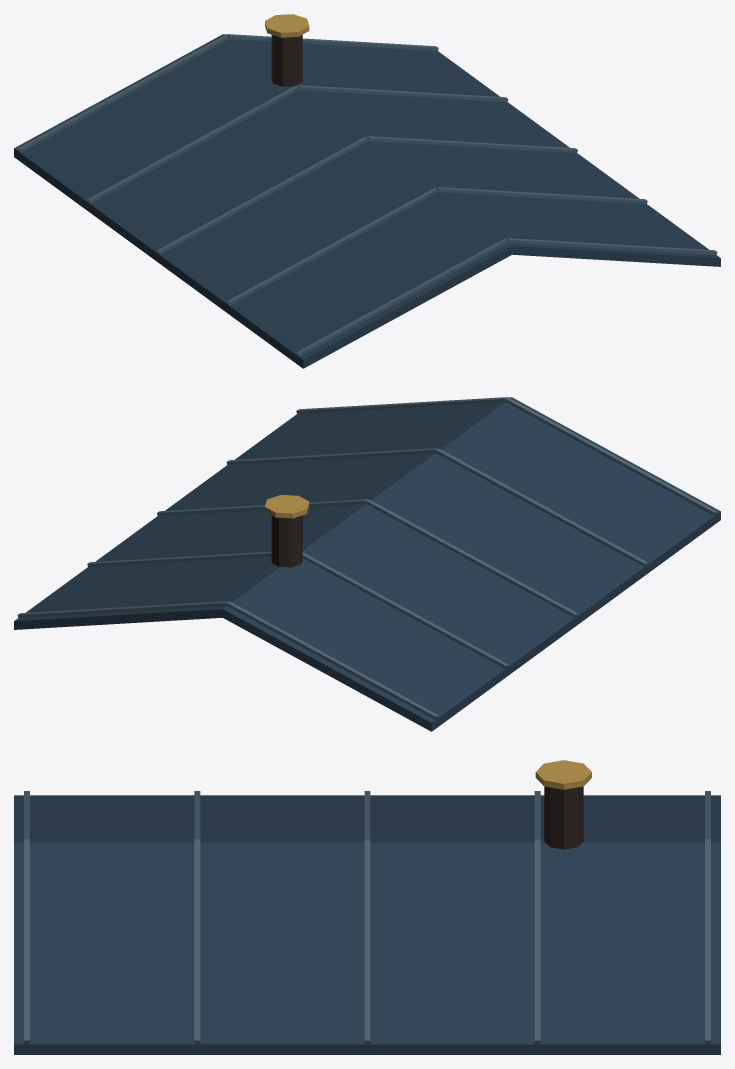
The model's file is PirateCove_CaptainsRoof_Showcase.glb.
The picture shows the model from 3 angles, top to bottom: view 1: azimuth 30°, elevation 25°; view 2: azimuth 150°, elevation 25°; view 3: azimuth 270°, elevation 25°; orthographic projection. The views are drawn at different scales.
Visible parts, largest first — view 1: PirateCove_CaptainsRoof_Showcase; view 2: PirateCove_CaptainsRoof_Showcase; view 3: PirateCove_CaptainsRoof_Showcase.
Boxes of the visible parts, left/top/right/bottom form: PirateCove_CaptainsRoof_Showcase: left=14, top=14, right=720, bottom=368; PirateCove_CaptainsRoof_Showcase: left=14, top=397, right=720, bottom=731; PirateCove_CaptainsRoof_Showcase: left=14, top=760, right=720, bottom=1054.
Bounding box in the file's own units: 9.02 × 2.67 × 10.8.
